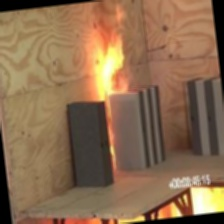fire: (81, 20, 134, 119)
